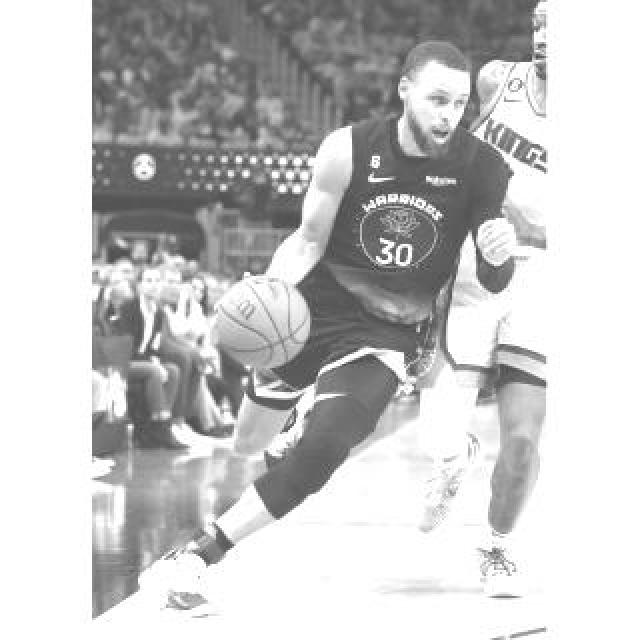shoe: (414, 430, 484, 534), (136, 547, 212, 619), (475, 534, 527, 598)
